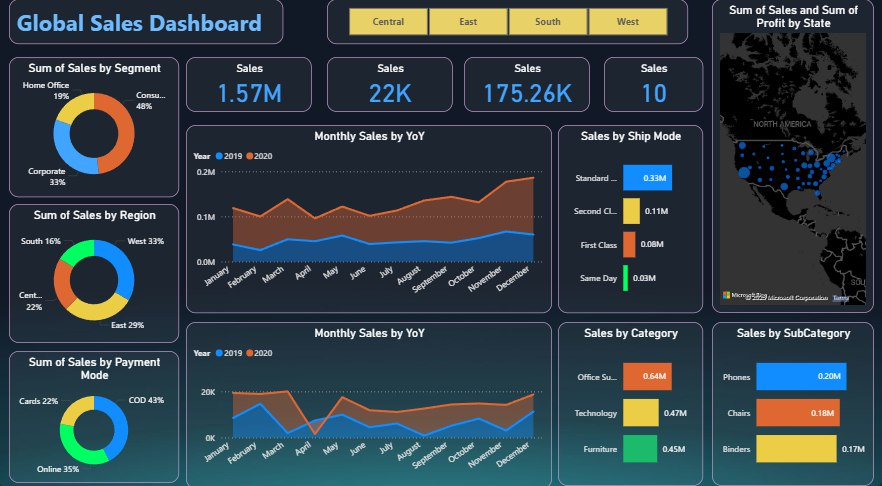

The page's visual inventory and layout, read from the dashboard file:
{"tool":"powerbi","page":{"name":"Page 1","canvas":[1280,720],"ordinal":0},"visuals":[{"type":"clusteredBarChart","title":"Sales by Category","fields":{"Category":["SuperStore_Sales_Dataset.Category"],"Y":["Sum(SuperStore_Sales_Dataset.Sales)"]},"box":[809.3,479.5,208.8,236.2],"z":0},{"type":"clusteredBarChart","title":"Sales by SubCategory","fields":{"Y":["Sum(SuperStore_Sales_Dataset.Sales)"],"Category":["SuperStore_Sales_Dataset.Sub-Category"]},"box":[1031,479.5,233.3,236.2],"z":1000},{"type":"clusteredBarChart","title":"Sales by Ship Mode","fields":{"Y":["Sum(SuperStore_Sales_Dataset.Sales)"],"Category":["SuperStore_Sales_Dataset.Ship Mode"]},"box":[809.3,195.8,208.8,270.7],"z":2000},{"type":"stackedAreaChart","title":"Monthly Sales by YoY","fields":{"Category":["SuperStore_Sales_Dataset.Order Date.Variation.Date Hierarchy.Month","SuperStore_Sales_Dataset.Order Date.Variation.Date Hierarchy.Day"],"Y":["Sum(SuperStore_Sales_Dataset.Sales)"],"Series":["SuperStore_Sales_Dataset.Order Date.Variation.Date Hierarchy.Year"]},"box":[273.6,195.8,527,270.7],"z":3000},{"type":"stackedAreaChart","title":"Monthly Sales by YoY","fields":{"Category":["SuperStore_Sales_Dataset.Order Date.Variation.Date Hierarchy.Month","SuperStore_Sales_Dataset.Order Date.Variation.Date Hierarchy.Day"],"Series":["SuperStore_Sales_Dataset.Order Date.Variation.Date Hierarchy.Year"],"Y":["Sum(SuperStore_Sales_Dataset.Profit)"]},"box":[273.6,479.5,527,240.5],"z":4000},{"type":"map","fields":{"Category":["SuperStore_Sales_Dataset.State"],"Size":["Sum(SuperStore_Sales_Dataset.Sales)"]},"box":[1031,14.4,233.3,452.2],"z":5000},{"type":"donutChart","fields":{"Category":["SuperStore_Sales_Dataset.Segment"],"Y":["Sum(SuperStore_Sales_Dataset.Sales)"]},"box":[18.7,97.9,244.8,201.6],"z":6000},{"type":"donutChart","fields":{"Y":["Sum(SuperStore_Sales_Dataset.Sales)"],"Category":["SuperStore_Sales_Dataset.Payment Mode"]},"box":[18.7,521.3,244.8,190.1],"z":7000},{"type":"slicer","fields":{"Values":["SuperStore_Sales_Dataset.Region"]},"box":[476.6,14.4,519.8,64.8],"z":8000},{"type":"textbox","box":[18.7,14.4,394.6,64.8],"z":9000},{"type":"card","title":"Sales","fields":{"Values":["Sum(SuperStore_Sales_Dataset.Sales)"]},"box":[273.6,97.9,181.4,79.2],"z":10000},{"type":"card","title":"Sales","fields":{"Values":["Sum(SuperStore_Sales_Dataset.Quantity)"]},"box":[476.6,97.9,181.4,79.2],"z":11000},{"type":"card","title":"Sales","fields":{"Values":["Sum(SuperStore_Sales_Dataset.Profit)"]},"box":[673.9,97.9,181.4,79.2],"z":12000},{"type":"card","title":"Sales","fields":{"Values":["Avg(SuperStore_Sales_Dataset.AvgDelivery)"]},"box":[875.5,97.9,142.6,79.2],"z":13000},{"type":"donutChart","fields":{"Y":["Sum(SuperStore_Sales_Dataset.Sales)"],"Category":["SuperStore_Sales_Dataset.Region"]},"box":[18.7,309.6,244.8,200.2],"z":14000}]}

Visuals, with their boxes in screenshot pixels (x1, y1, x2, y2), scaled from the page's 1280x720 canvas onto the 882x486 screenshot:
"Sales by Category" clusteredBarChart: [558,324,702,483]
"Sales by SubCategory" clusteredBarChart: [710,324,871,483]
"Sales by Ship Mode" clusteredBarChart: [558,132,702,315]
"Monthly Sales by YoY" stackedAreaChart: [189,132,552,315]
"Monthly Sales by YoY" stackedAreaChart: [189,324,552,485]
map - SuperStore_Sales_Dataset.State x Sum(SuperStore_Sales_Dataset.Sales): [710,10,871,315]
donutChart - SuperStore_Sales_Dataset.Segment x Sum(SuperStore_Sales_Dataset.Sales): [13,66,182,202]
donutChart - Sum(SuperStore_Sales_Dataset.Sales) x SuperStore_Sales_Dataset.Payment Mode: [13,352,182,480]
slicer - SuperStore_Sales_Dataset.Region: [328,10,687,53]
textbox: [13,10,285,53]
"Sales" card: [189,66,314,120]
"Sales" card: [328,66,453,120]
"Sales" card: [464,66,589,120]
"Sales" card: [603,66,702,120]
donutChart - Sum(SuperStore_Sales_Dataset.Sales) x SuperStore_Sales_Dataset.Region: [13,209,182,344]
